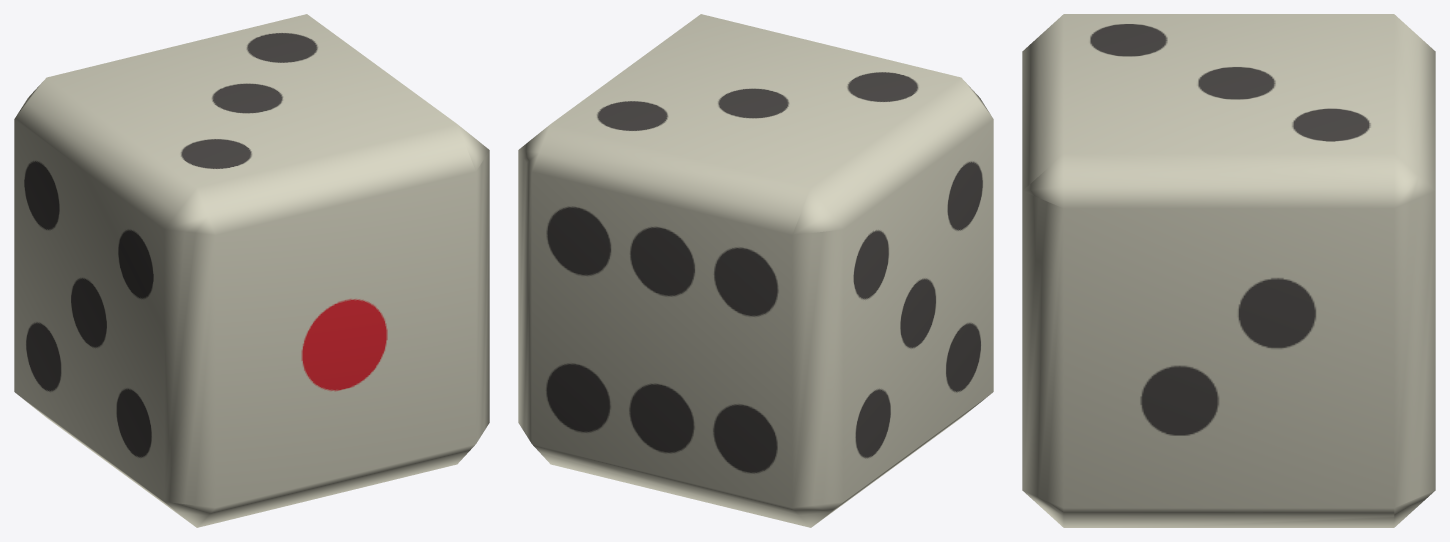
File: Dise.fbx
3 renders of one model, left to right at view 1: azimuth 30°, elevation 25°; view 2: azimuth 150°, elevation 25°; view 3: azimuth 270°, elevation 25°, orthographic. The views are drawn at different scales.
Visible parts, largest first — view 1: pCube1; view 2: pCube1; view 3: pCube1.
Boxes of the visible parts, x1,y1,x2,y2 form: pCube1: (14, 14, 489, 527); pCube1: (518, 14, 993, 527); pCube1: (1022, 14, 1435, 527).
Size of the model in its own units: 100 by 100 by 100.
Materials: 1 (1 with a texture image).
